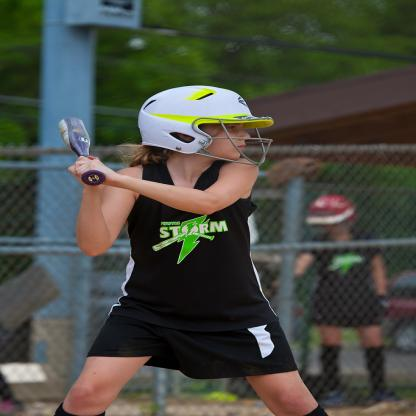Helmet: (134, 82, 274, 167), (306, 193, 360, 226)
